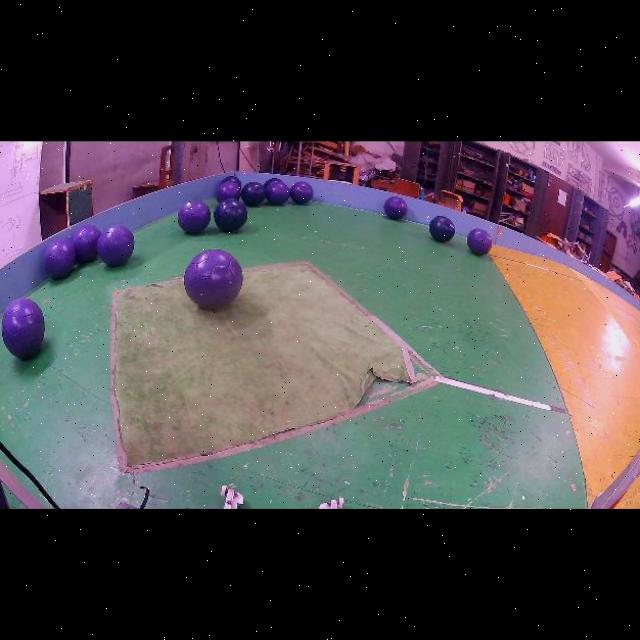B: (214, 199, 248, 232), (429, 215, 455, 242), (241, 182, 266, 207), (221, 176, 241, 188)
P: (184, 250, 243, 310), (1, 297, 44, 359), (97, 226, 134, 267), (43, 240, 75, 281), (177, 200, 211, 235), (71, 224, 101, 263), (467, 228, 492, 256), (383, 196, 407, 220), (266, 181, 290, 205), (216, 182, 241, 203), (290, 182, 313, 204)
